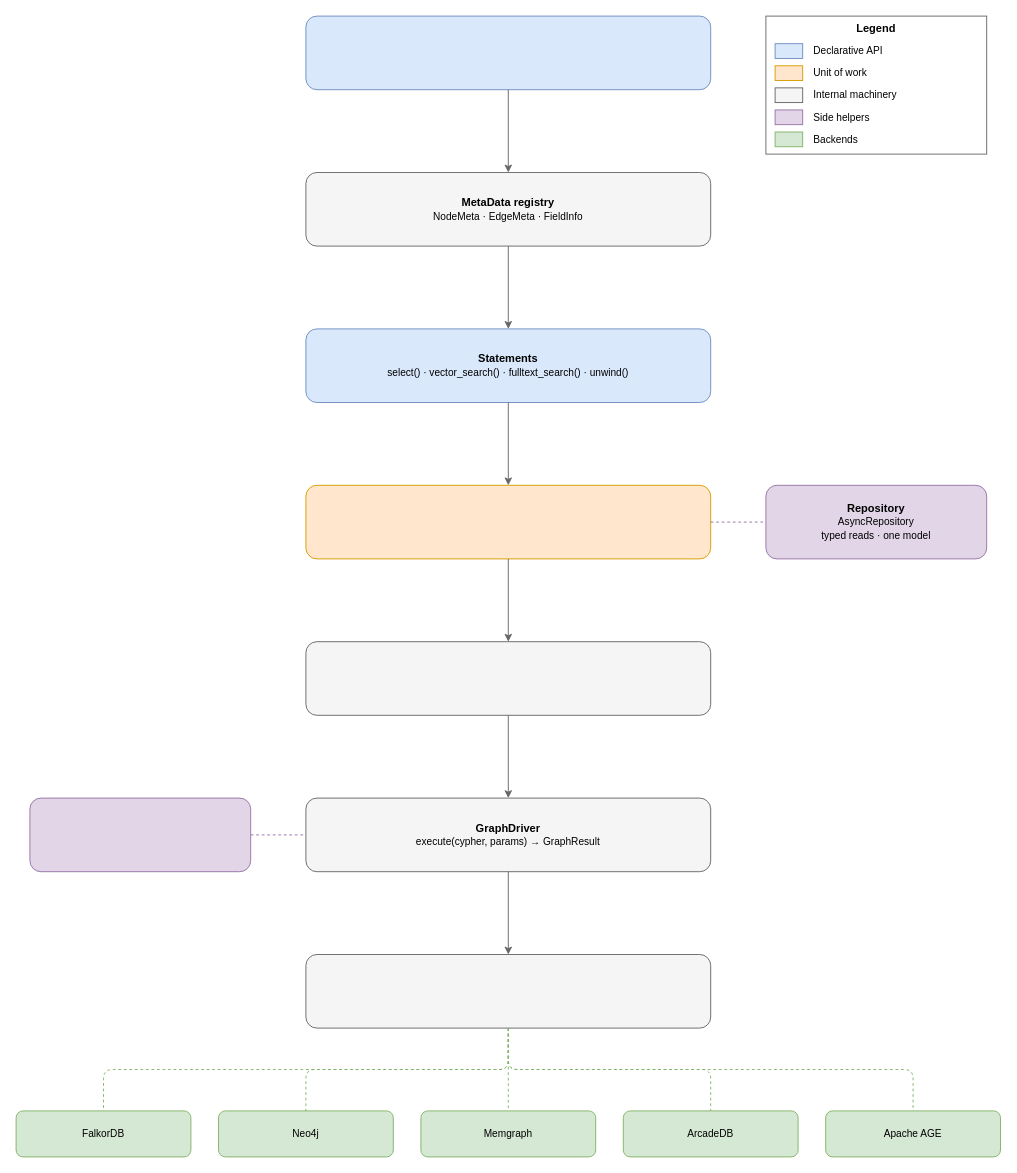
Some shapes in this 1017 by 1173 pixel diagram are drawn without their labels. Each missing label, with the centre of its shape:
GraphDialect every backend-specific Cypher fragment: [508,991]
IndexManager SchemaManager via runic.migrate adapter: [140,834]
Mapper RelationshipLoader · RelationshipWriter: [508,678]
Node · Edge · Field() · Relation() declarative — no persistence methods: [508,52]
Session / AsyncSession identity map · dirty tracking · flush / commit: [508,521]
